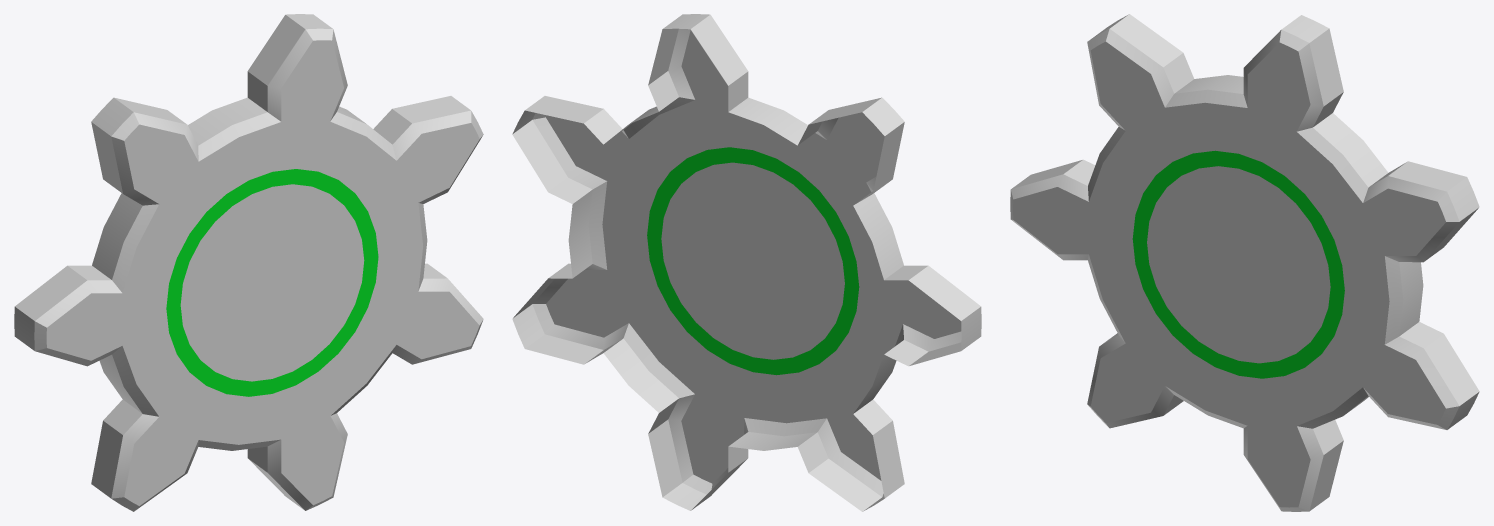
File: ringPinion.fbx
3 renders of one model, left to right at view 1: azimuth 30°, elevation 25°; view 2: azimuth 150°, elevation 25°; view 3: azimuth 330°, elevation 25°, orthographic.
Parts seen in each view (by area): view 1: Gear; view 2: Gear; view 3: Gear.
Part boxes in pixels (x1,y1,x2,y2): Gear: (14, 14, 483, 511); Gear: (512, 14, 981, 511); Gear: (1010, 14, 1479, 511).
Bounding box in the file's own units: 501 × 513 × 48.
